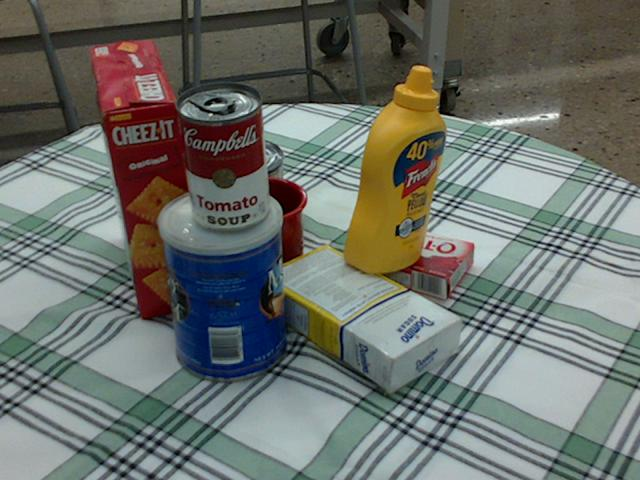cracker_box: (89, 43, 204, 316)
gelatin_box: (365, 224, 473, 301)
master_chef_can: (156, 185, 288, 382)
mug: (196, 176, 305, 285)
mustard_bottle: (343, 65, 445, 273)
potted_meat_can: (177, 155, 294, 244)
sugar_box: (258, 244, 463, 389)
tomato_soup_can: (174, 81, 267, 229)
tuna_fish_can: (202, 137, 283, 202)
